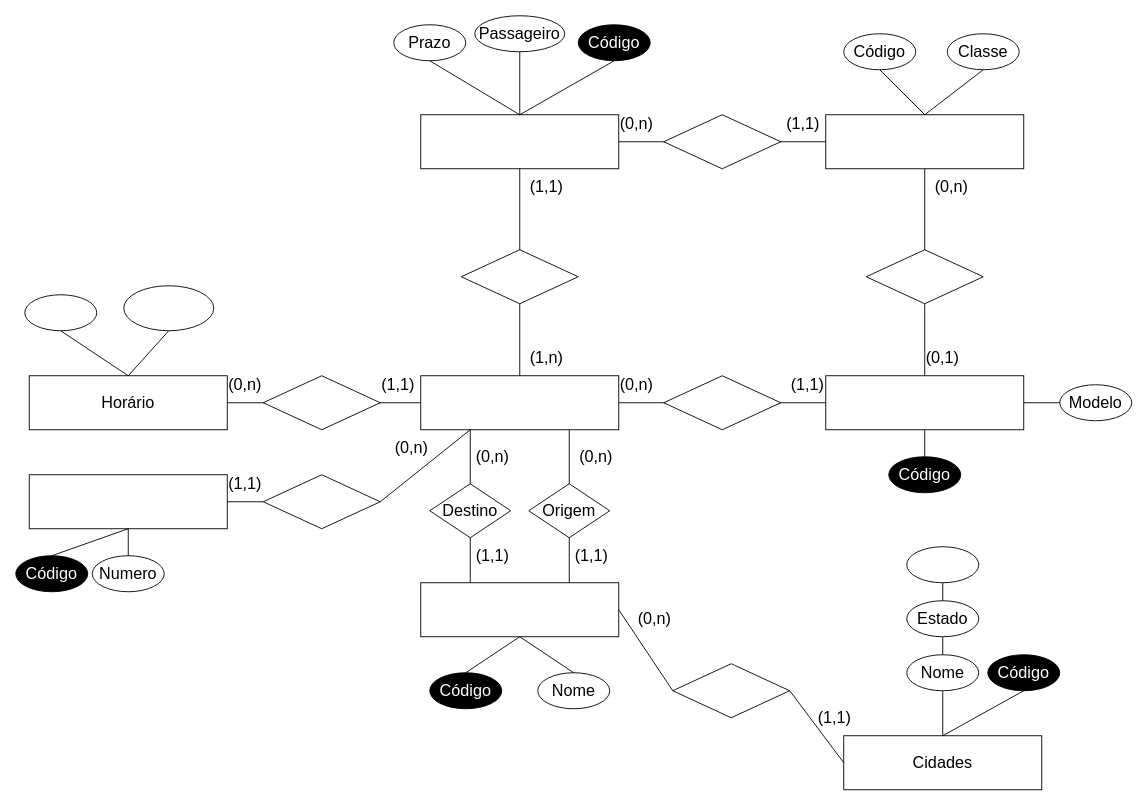
Image size: 1148x806. Some labels were removed from this diagram. Here are the shapes that lost their labels. From the top down, the centre of each, then its label:
At pixel 519 141: "Reservas".
At pixel 924 141: "Assento".
At pixel 60 312: "Hora".
At pixel 168 308: "Dia da Semana".
At pixel 519 402: "Trecho".
At pixel 924 402: "Aeronave".
At pixel 127 501: "Voos".
At pixel 942 564: "País".
At pixel 519 609: "Aeroportos".
